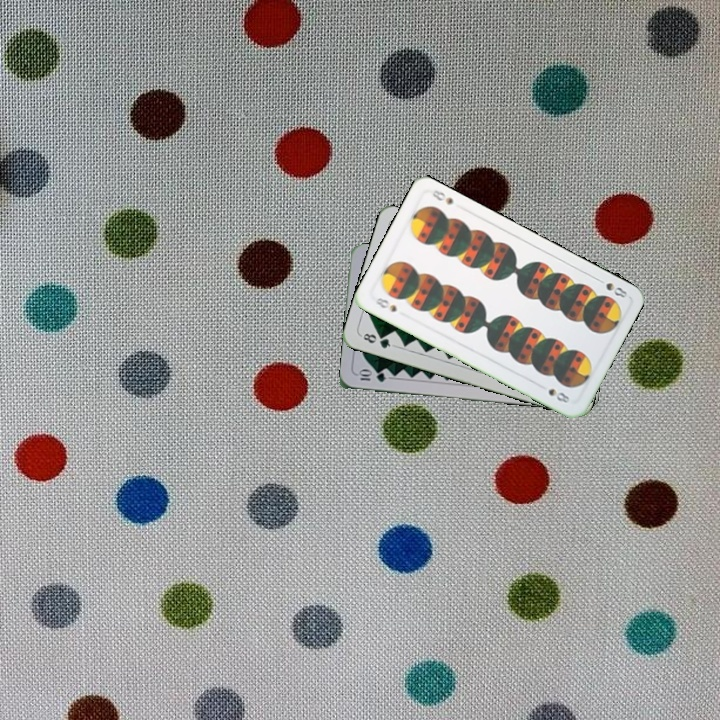G10: (354, 367, 388, 384)
G8: (357, 329, 397, 351)
S8: (592, 274, 630, 300), (370, 293, 399, 315)
